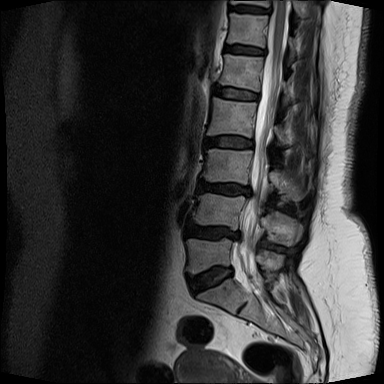Lumbar Disc Bulge (LDB): (177, 260, 240, 302), (179, 212, 244, 247), (188, 171, 256, 200)
Normal IVD: (200, 130, 255, 156), (208, 84, 267, 103)
Spinal Stenosis (SS): (237, 177, 257, 201), (227, 227, 247, 247), (224, 260, 235, 282), (264, 3, 276, 19)
Thoracic Disc Bulge (TDB): (219, 41, 271, 60), (221, 4, 277, 17)
